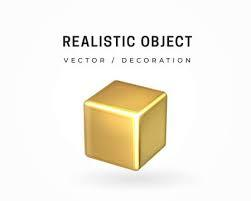cubos: (79, 77, 172, 178)
